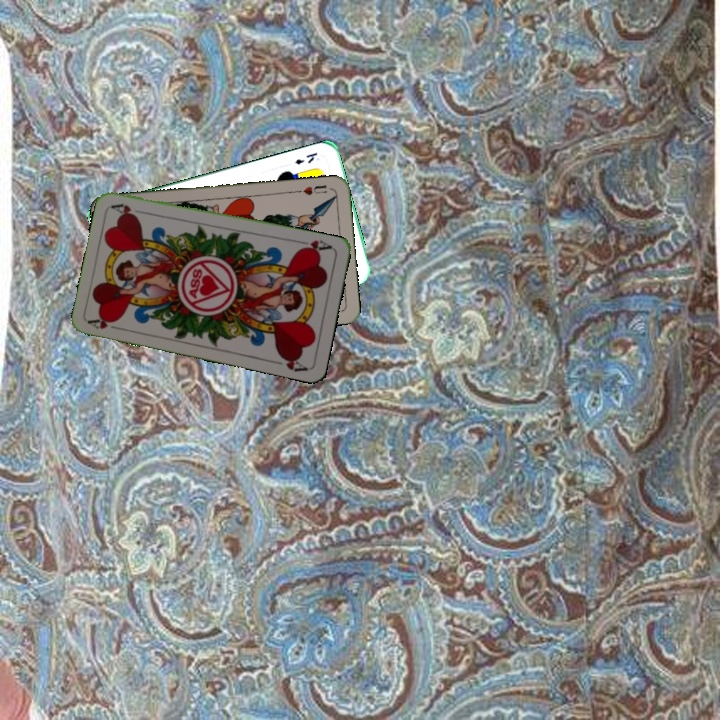EK: (291, 148, 320, 167)
HA: (294, 236, 335, 256), (85, 313, 125, 332)
HU: (293, 181, 329, 198)
